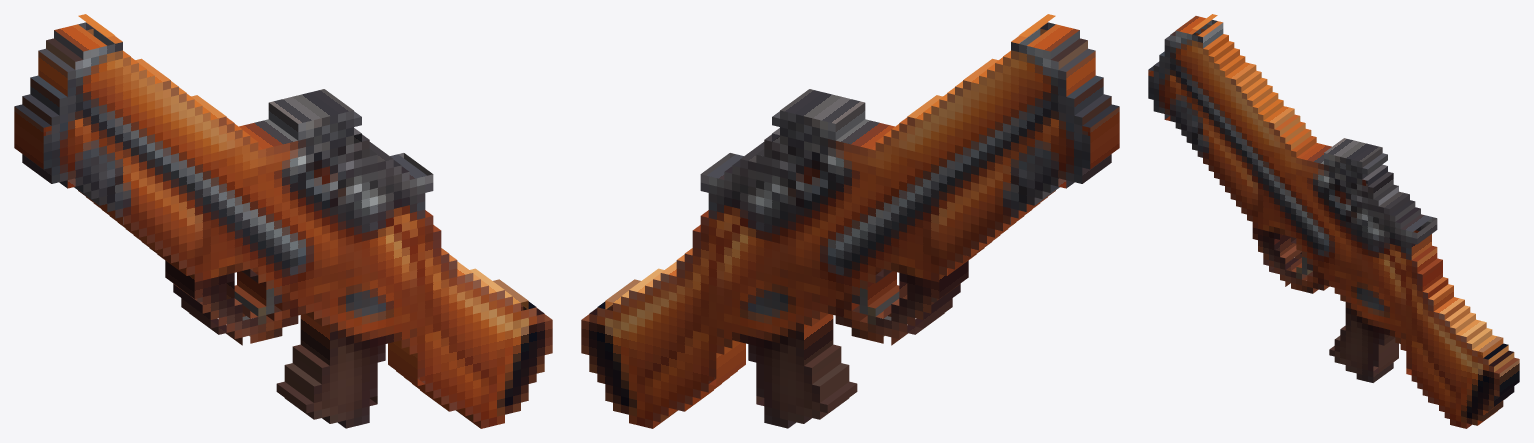
Rendered from pickup-scatter.obj.
3 views of the same model, side by side, from view 1: azimuth 30°, elevation 25°; view 2: azimuth 150°, elevation 25°; view 3: azimuth 330°, elevation 25° (orthographic). The views are drawn at different scales.
Size of the model in its own units: 0.4462 by 0.4043 by 0.0446.
